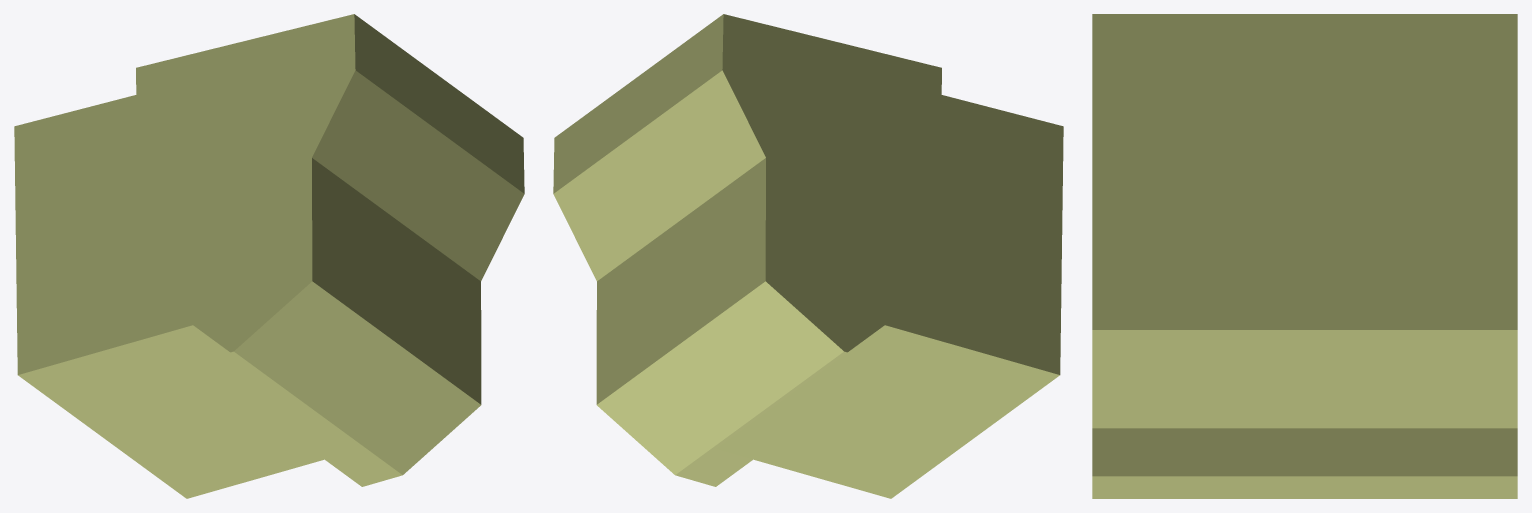
The picture shows the model from 3 angles, left to right: view 1: azimuth 30°, elevation 25°; view 2: azimuth 150°, elevation 25°; view 3: azimuth 270°, elevation 25°; orthographic projection. The views are drawn at different scales.
Visible parts, largest first — view 1: 0_3_2_0_2_3_3_2_0_3; view 2: 0_3_2_0_2_3_3_2_0_3; view 3: 0_3_2_0_2_3_3_2_0_3.
Boxes of the visible parts, box(x1,y1,x2,y2) form: 0_3_2_0_2_3_3_2_0_3: box(14, 14, 524, 498); 0_3_2_0_2_3_3_2_0_3: box(553, 14, 1063, 498); 0_3_2_0_2_3_3_2_0_3: box(1092, 14, 1517, 498).
Bounding box in the file's own units: 6.99 × 6.07 × 6.
